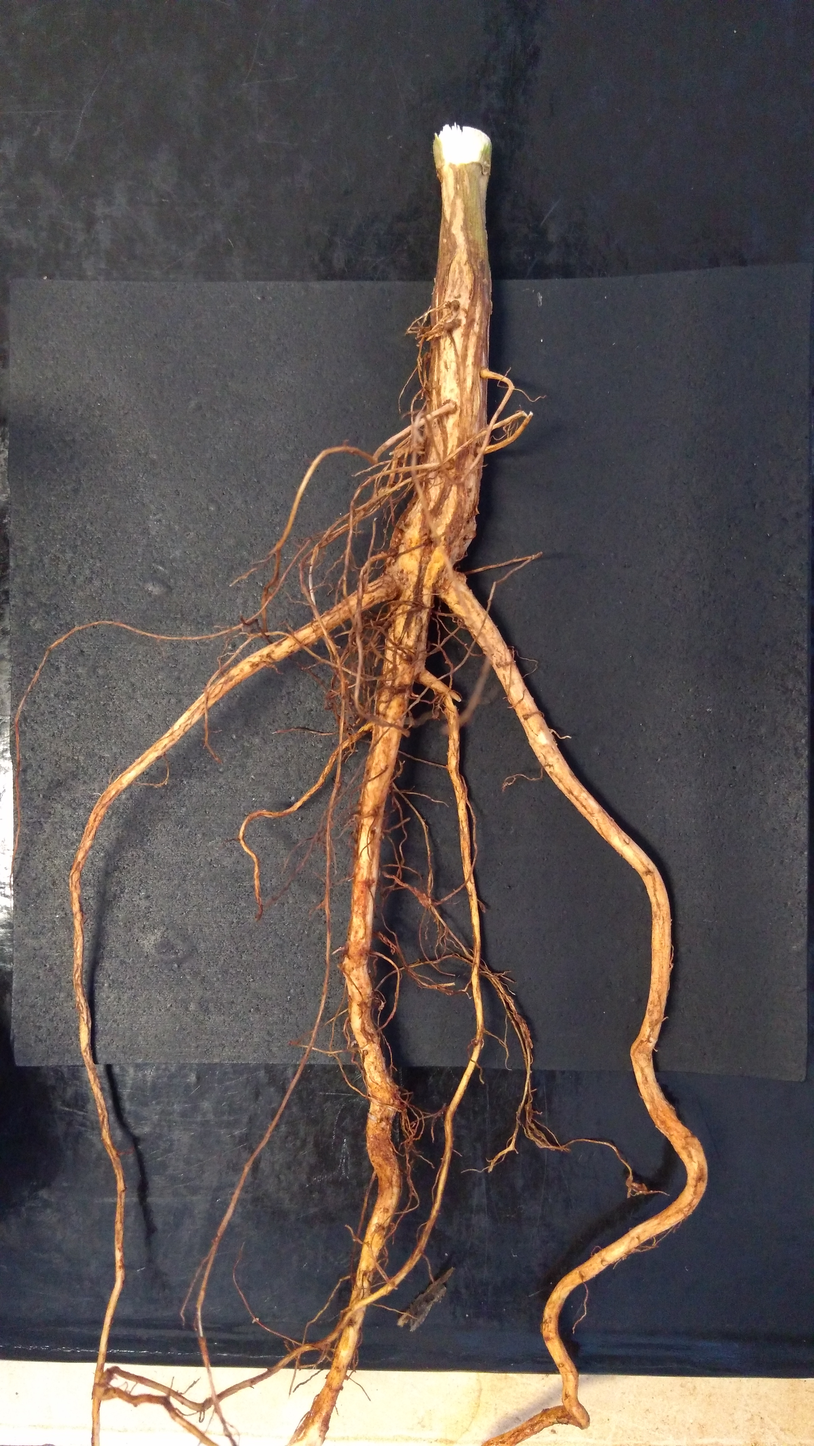nodule: (392, 659, 413, 691), (377, 687, 391, 715), (387, 598, 400, 616), (381, 670, 393, 689), (453, 571, 467, 583), (430, 710, 440, 720), (422, 352, 431, 361), (386, 556, 395, 563), (350, 1040, 357, 1048), (252, 1317, 259, 1324), (402, 1108, 408, 1113)
